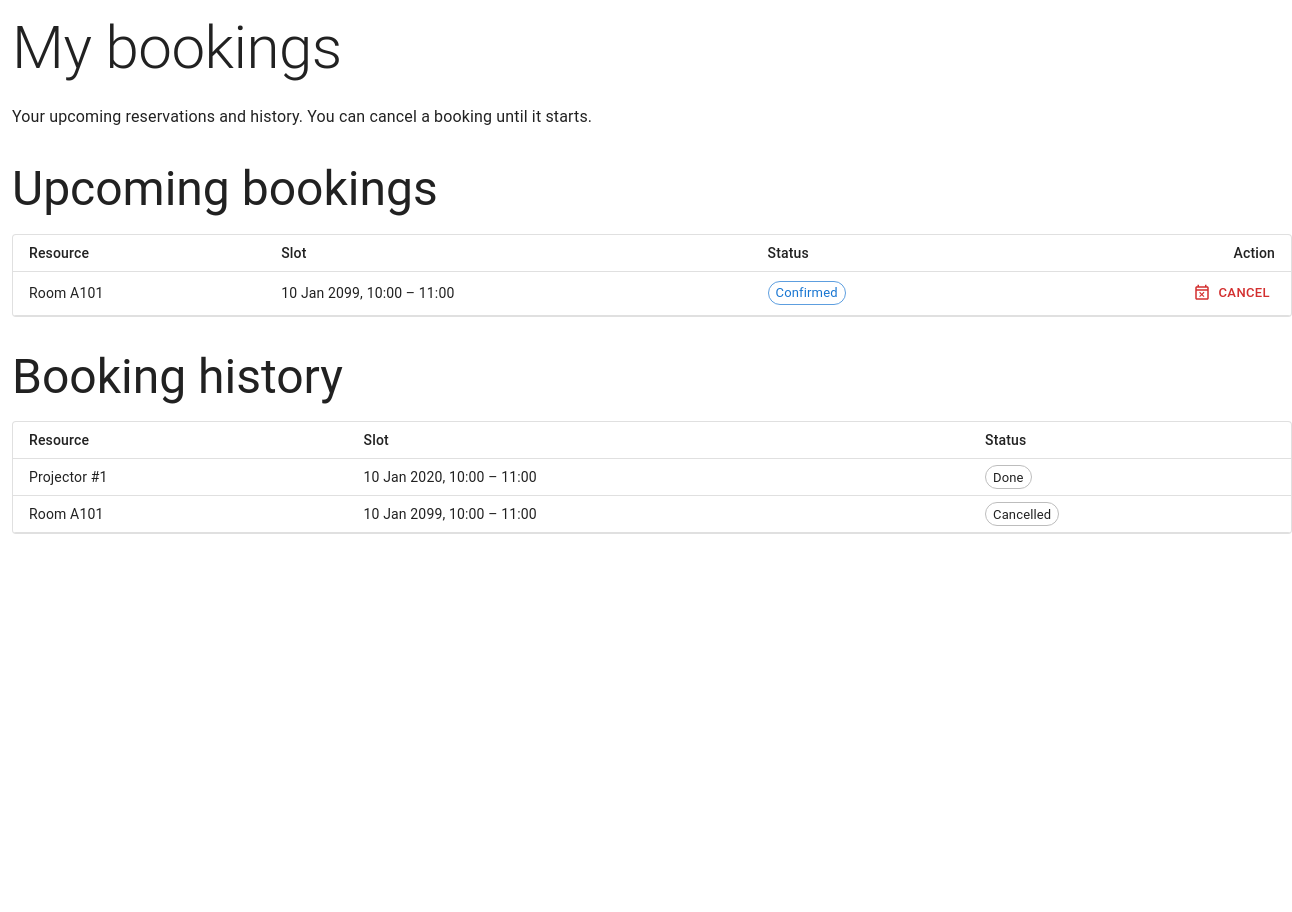
it: DashboardPage (US-08) › shows the server message when the cancellation is refused
Click the button with aria-label "Cancel booking: Room A101" at {"x": 1232, "y": 293}, box [1190, 278, 1275, 309]
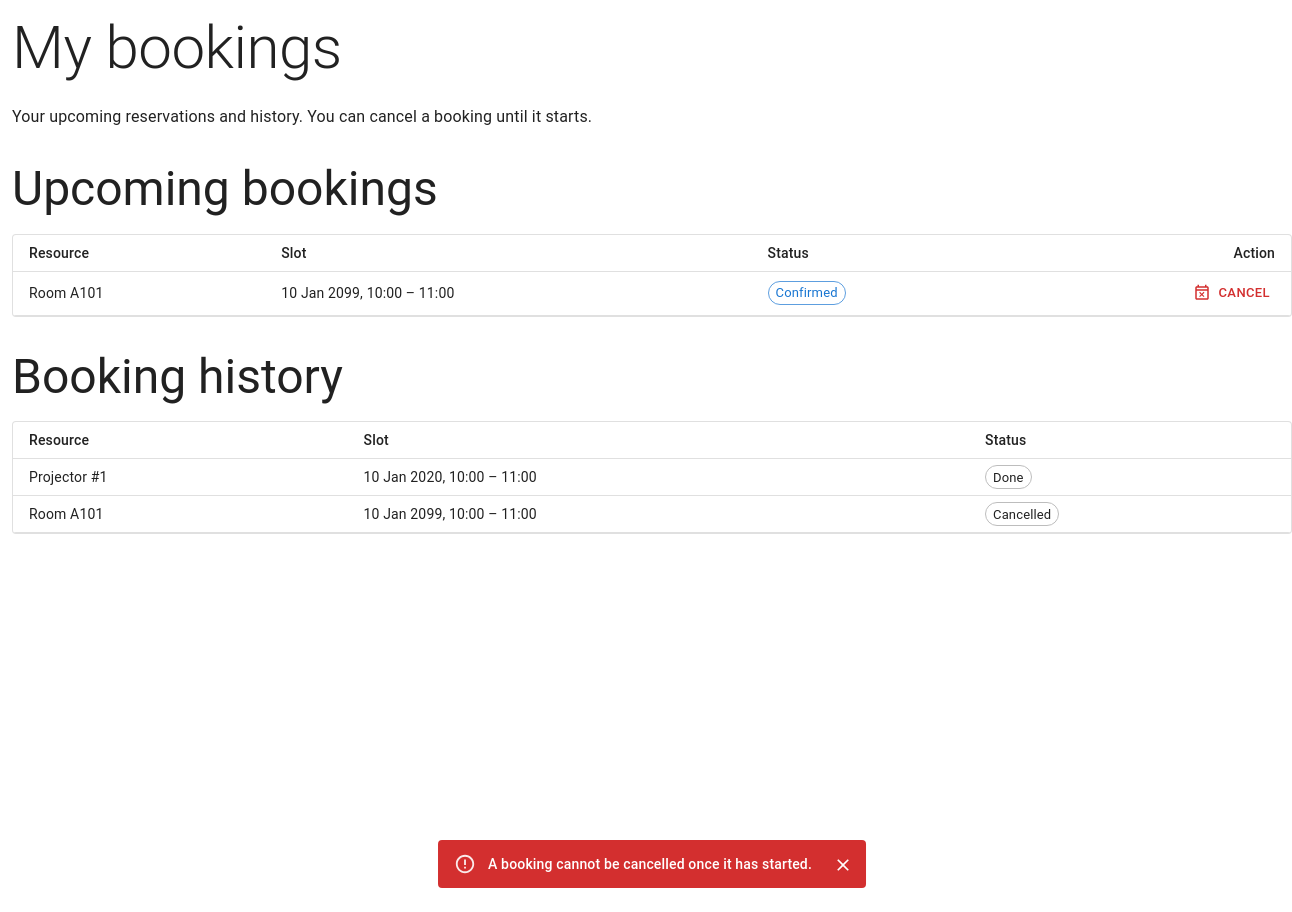
Check: the text "A booking cannot be cancelled once it has started." is shown, box [488, 856, 812, 872]
